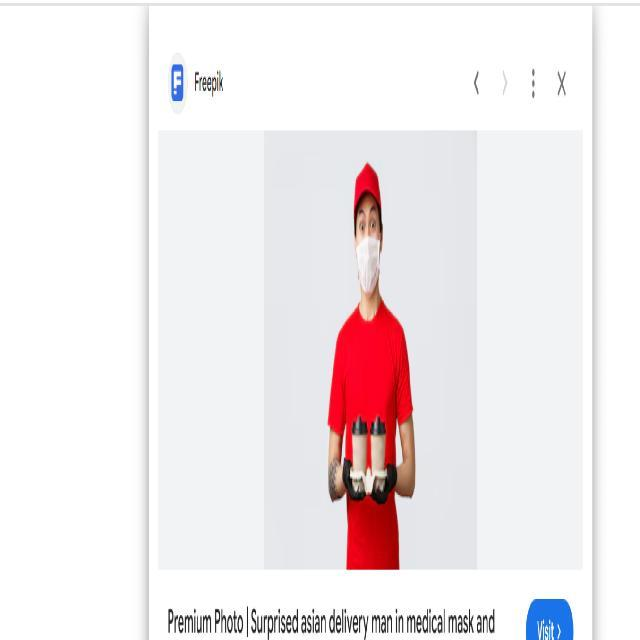face_mask: (353, 204, 381, 290)
